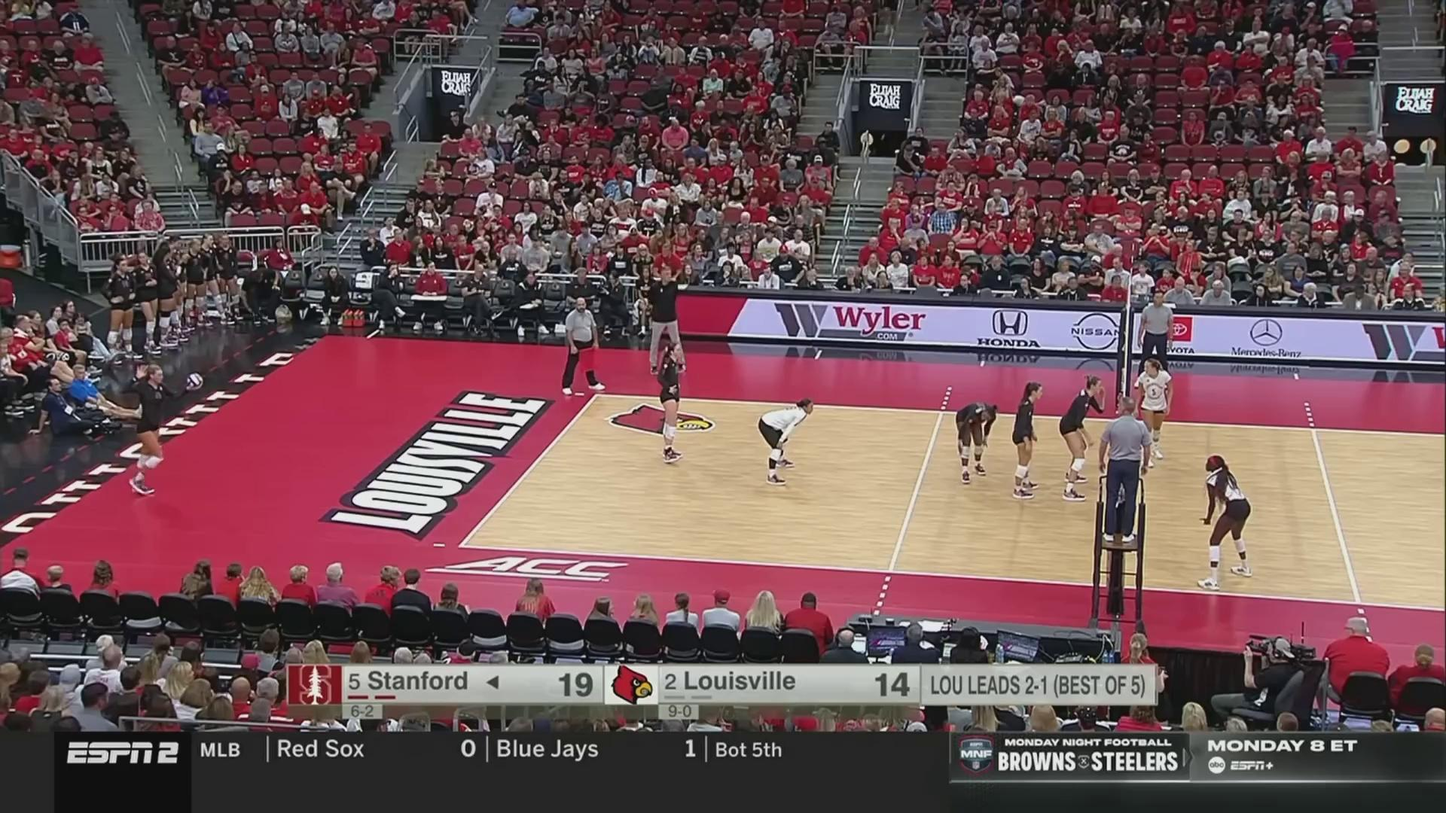player: (125, 362, 195, 491), (1201, 456, 1254, 589), (1060, 375, 1108, 499), (756, 399, 813, 482), (1134, 357, 1173, 469), (1009, 383, 1046, 496), (954, 401, 1000, 485), (657, 343, 688, 461)
refree: (1098, 402, 1149, 539), (562, 297, 603, 394), (1136, 291, 1173, 397)
